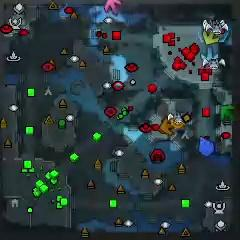p1: (198, 135, 215, 156)
x1: (104, 0, 122, 16)
x2: (203, 29, 218, 45)
x3: (201, 47, 219, 62)
x4: (220, 105, 235, 123)
x5: (160, 116, 180, 137)
